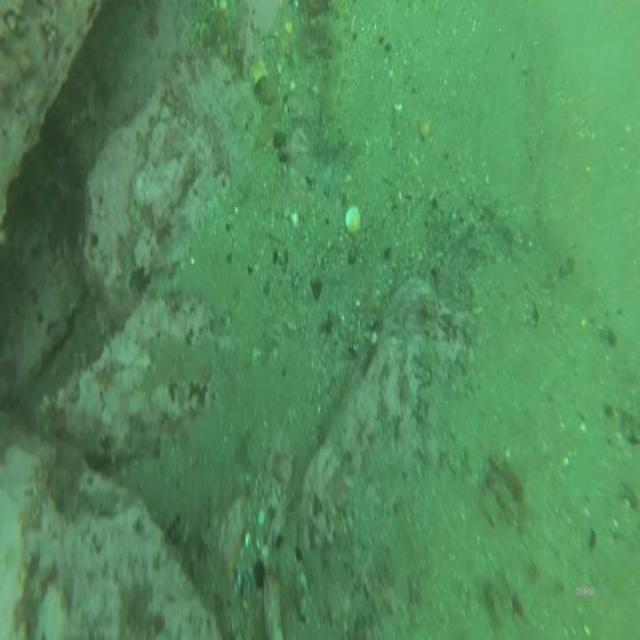holothurian: (320, 13, 355, 128)
